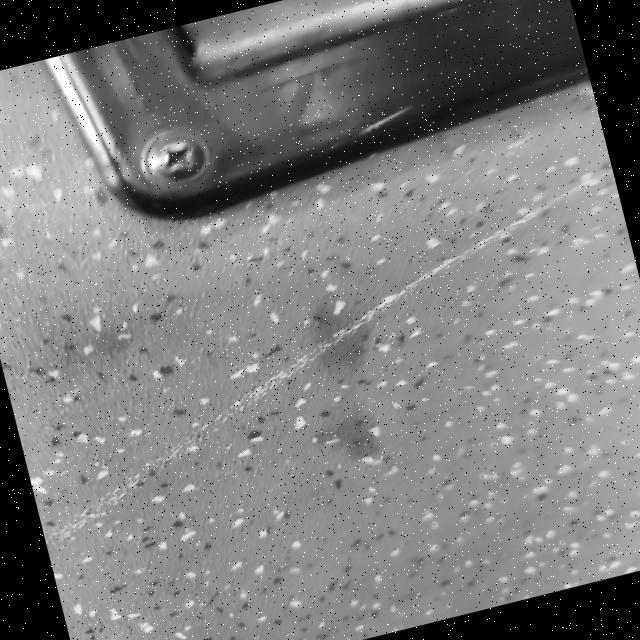Phillips: (143, 130, 213, 184)
